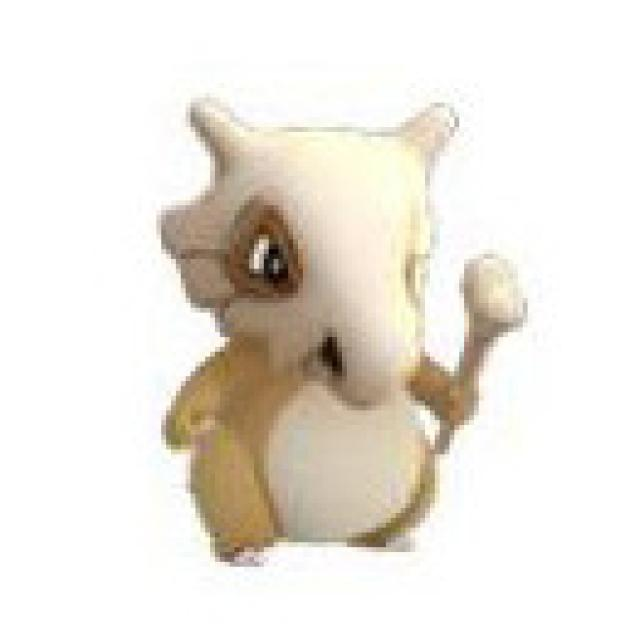Cubone: (144, 100, 530, 565)
